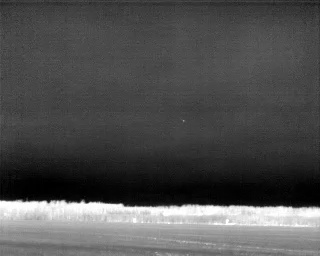HELICOPTER: (180, 117, 187, 124)
